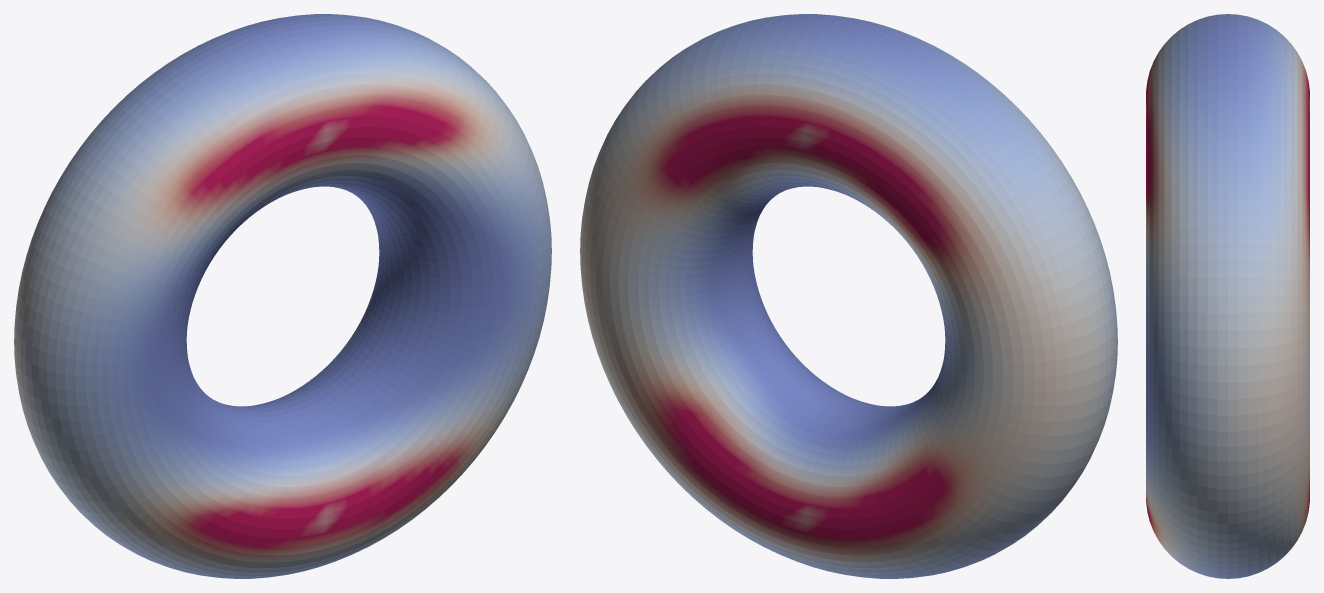
3 renders of one model, left to right at view 1: azimuth 30°, elevation 25°; view 2: azimuth 150°, elevation 25°; view 3: azimuth 270°, elevation 25°, orthographic. The views are drawn at different scales.
Parts seen in each view (by area): view 1: world; view 2: world; view 3: world.
Part boxes in pixels (x1,y1,x2,y2): world: [14, 14, 551, 578]; world: [580, 14, 1117, 578]; world: [1146, 14, 1309, 578].
Bounding box in the file's own units: 19.73 × 19.73 × 5.72.
